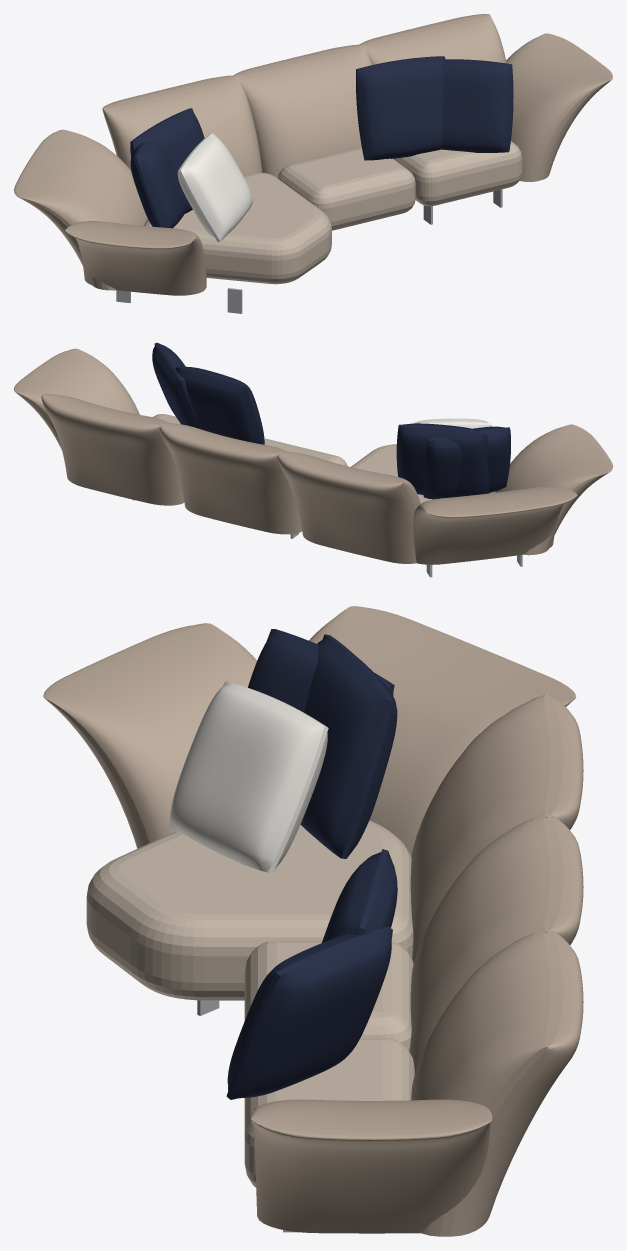
The model's file is petal-left.glb.
3 renders of one model, top to bottom at view 1: azimuth 30°, elevation 25°; view 2: azimuth 150°, elevation 25°; view 3: azimuth 270°, elevation 25°, orthographic. The views are drawn at different scales.
Parts seen in each view (by area): view 1: body, seat, pillow, pillow2, metal; view 2: body, pillow, seat, pillow2; view 3: body, seat, pillow, pillow2.
Boxes of the visible parts, x1,y1,x2,y2 form: body: (14, 14, 612, 295); seat: (143, 141, 522, 284); pillow: (130, 56, 513, 228); pillow2: (177, 133, 252, 241); metal: (116, 189, 502, 313); body: (14, 348, 612, 564); pillow: (152, 342, 510, 499); seat: (153, 414, 495, 503); pillow2: (413, 418, 491, 428); body: (43, 606, 583, 1236); seat: (86, 820, 414, 1187); pillow: (226, 629, 397, 1099); pillow2: (169, 681, 328, 873).
Size of the model in its own units: 3.6 by 0.8849 by 1.56.
